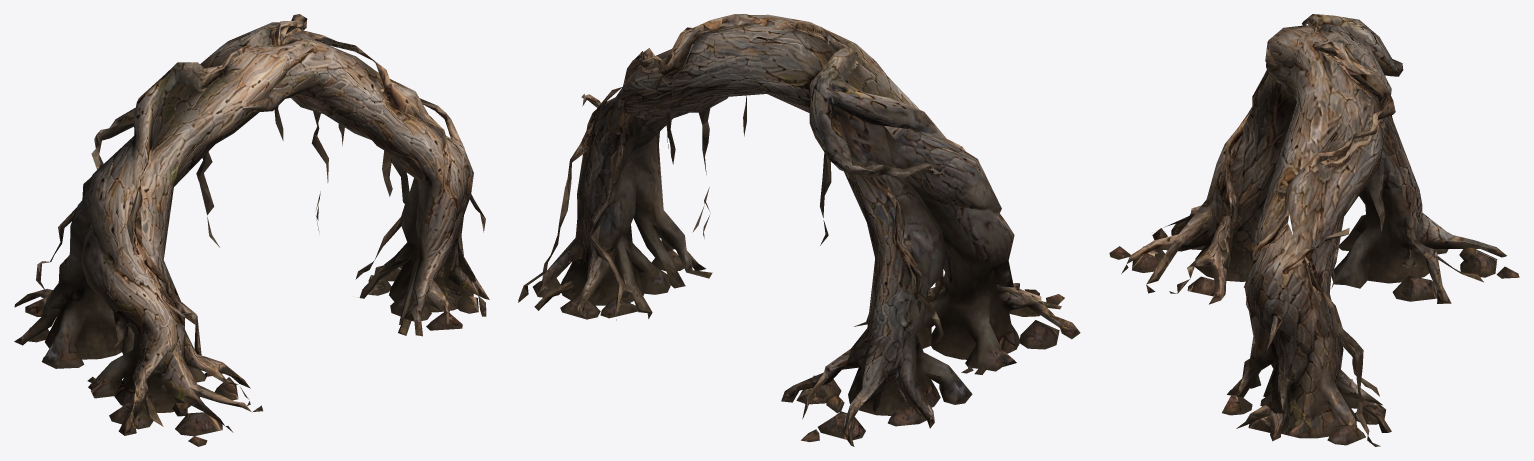
Rendered from act1_kit_v1_root_rib_arch.glb.
3 views of the same model, side by side, from view 1: azimuth 30°, elevation 25°; view 2: azimuth 150°, elevation 25°; view 3: azimuth 270°, elevation 25° (orthographic). The views are drawn at different scales.
Visible parts, largest first — view 1: A25_1_root_rib_arch; view 2: A25_1_root_rib_arch; view 3: A25_1_root_rib_arch.
Part boxes in pixels (x1,y1,x2,y2): A25_1_root_rib_arch: [14, 14, 489, 446]; A25_1_root_rib_arch: [518, 14, 1080, 446]; A25_1_root_rib_arch: [1109, 14, 1519, 446].
Bounding box in the file's own units: 0.9251 × 0.6196 × 0.743.
Materials: 1 (1 with a texture image).
